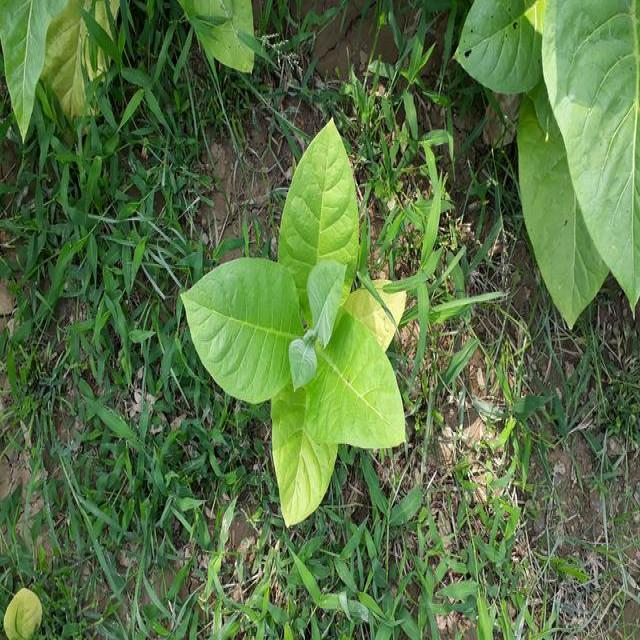crop: (179, 112, 414, 520)
